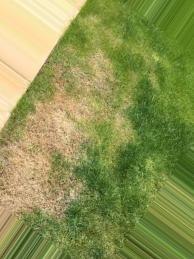patch: (5, 148, 52, 211), (41, 104, 83, 140), (93, 56, 112, 88)
